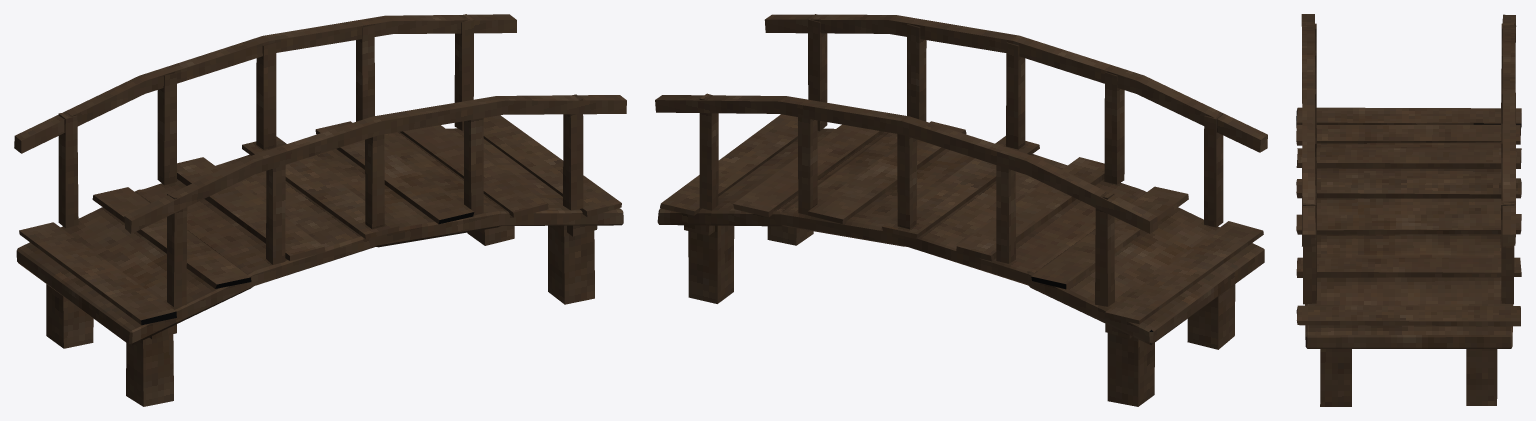
Rendered from bridge_01_godot.glb.
3 views of the same model, side by side, from view 1: azimuth 30°, elevation 25°; view 2: azimuth 150°, elevation 25°; view 3: azimuth 270°, elevation 25° (orthographic). The views are drawn at different scales.
Visible parts, largest first — view 1: bridge_01; view 2: bridge_01; view 3: bridge_01.
Part boxes in pixels (x1,y1,x2,y2): bridge_01: (14, 14, 626, 406); bridge_01: (655, 14, 1267, 406); bridge_01: (1296, 14, 1521, 406).
Size of what is drawn, in the model's own units: 2 by 0.9239 by 0.8656.
1 material, 1 textured.
